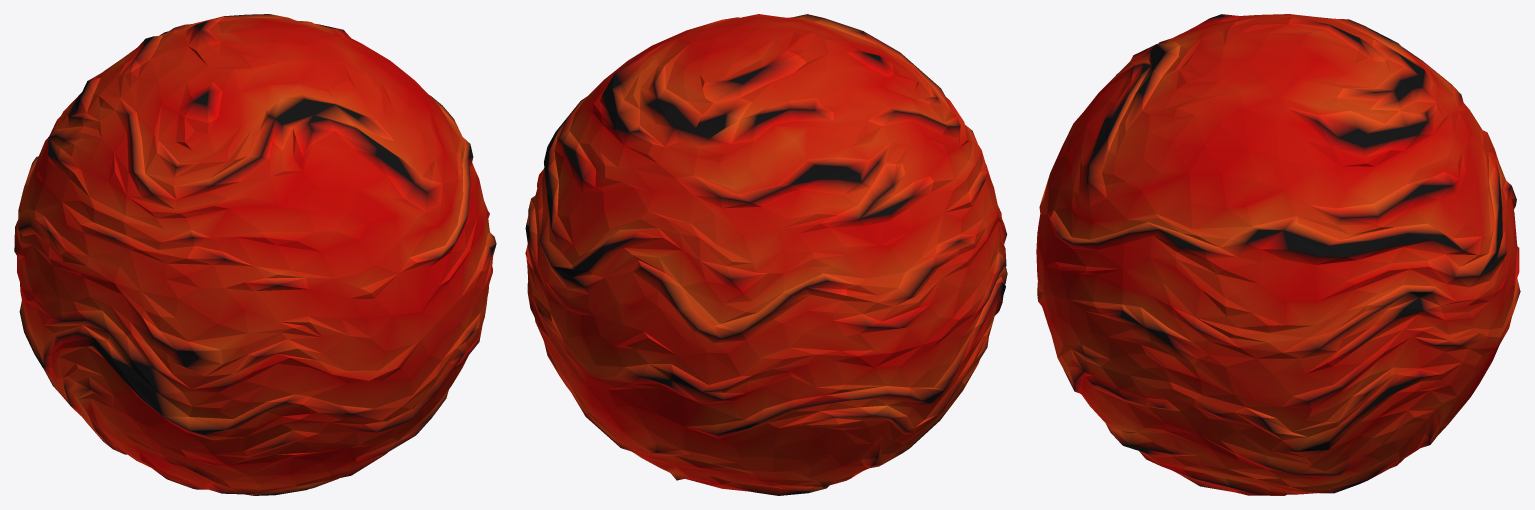
The model's file is volcanic_planet_5.fbx.
The picture shows the model from 3 angles, left to right: view 1: azimuth 30°, elevation 25°; view 2: azimuth 150°, elevation 25°; view 3: azimuth 270°, elevation 25°; orthographic projection.
Parts seen in each view (by area): view 1: filecache2; view 2: filecache2; view 3: filecache2.
Boxes of the visible parts, box(x1,y1,x2,y2) form: filecache2: box(14, 14, 496, 495); filecache2: box(525, 14, 1007, 495); filecache2: box(1036, 14, 1520, 495).
Bounding box in the file's own units: 2.03 × 2.03 × 2.02.
